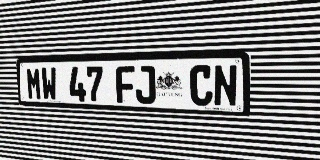4: (68, 67, 86, 102)
7: (85, 66, 104, 102)
C: (190, 65, 213, 106)
F: (116, 66, 135, 103)
J: (135, 66, 156, 104)
M: (26, 67, 42, 100)
N: (213, 64, 238, 107)
W: (41, 67, 57, 101)
